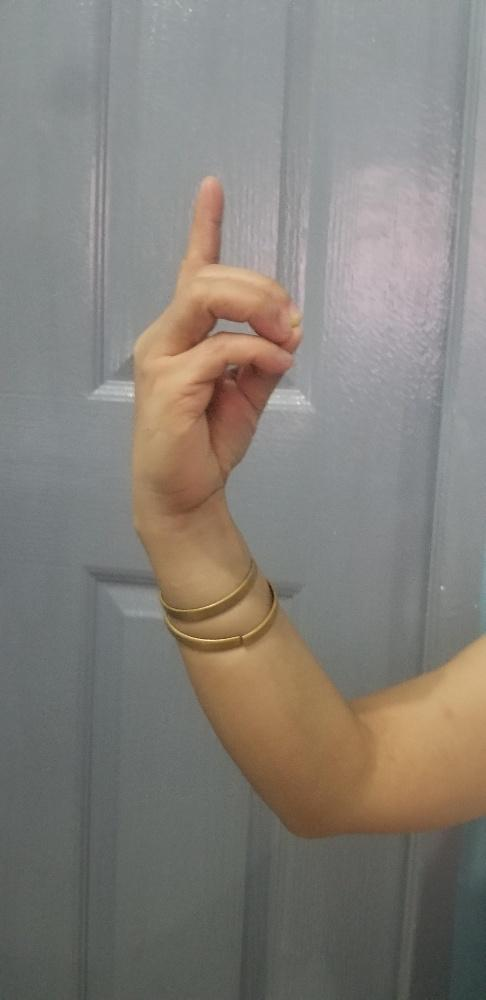d: (129, 177, 305, 512)
